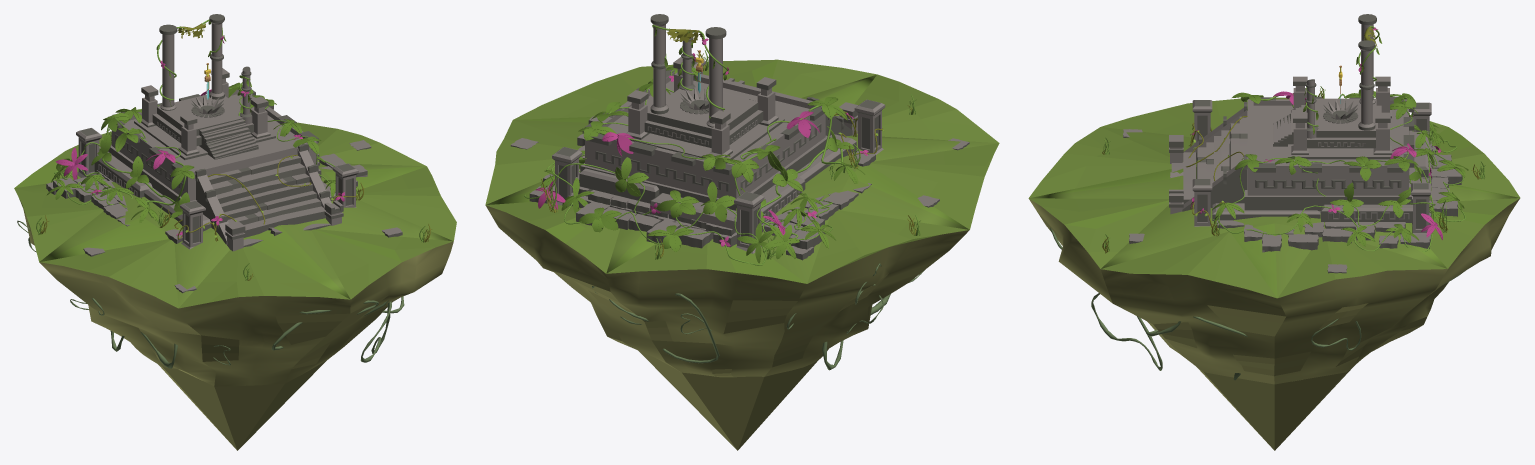
File: temple_island_low_poly.glb
The picture shows the model from 3 angles, left to right: view 1: azimuth 30°, elevation 25°; view 2: azimuth 150°, elevation 25°; view 3: azimuth 270°, elevation 25°; orthographic projection. The views are drawn at different scales.
Visible parts, largest first — view 1: Cylinder008, Box069, Box100, Box099, Box074, Cylinder004, box,, Box079, Box080, Box073, Box081, Box090 (+11 smaller); view 2: Cylinder008, Box069, Box100, Box099, Cylinder004, Box073, Box094, Box132, Box133, Cylinder003_04 - Default_0, Box095, Box091 (+4 smaller); view 3: Cylinder008, Box069, Box100, Box099, Box074, Box092, Line124, Box093, Cylinder003_04 - Default_0, Box133, Box134, Box073 (+3 smaller).
Part boxes in pixels (x1,y1,x2,y2): Cylinder008: [14, 122, 456, 450]; Box069: [108, 86, 321, 202]; Box100: [134, 68, 275, 159]; Box099: [53, 153, 367, 243]; Box074: [196, 149, 331, 244]; Cylinder004: [159, 24, 177, 110]; box,: [211, 163, 305, 194]; Box079: [243, 206, 325, 237]; Box080: [220, 182, 312, 212]; Box073: [180, 200, 205, 249]; Box081: [216, 173, 309, 203]; Box090: [94, 154, 152, 197]; Cylinder008: [485, 59, 999, 450]; Box069: [580, 68, 830, 210]; Box100: [624, 57, 784, 163]; Box099: [529, 116, 875, 249]; Cylinder004: [705, 27, 726, 127]; Box073: [854, 99, 885, 154]; Box094: [579, 168, 659, 203]; Box132: [734, 191, 764, 253]; Box133: [552, 147, 582, 205]; Cylinder003_04 - Default_0: [650, 23, 668, 110]; Box095: [650, 193, 736, 230]; Box091: [797, 134, 856, 182]; Cylinder008: [1028, 97, 1520, 450]; Box069: [1244, 97, 1414, 211]; Box100: [1288, 76, 1395, 159]; Box099: [1216, 141, 1462, 252]; Box074: [1182, 107, 1247, 211]; Box092: [1321, 204, 1412, 222]; Line124: [1255, 179, 1401, 188]; Box093: [1212, 203, 1320, 220]; Cylinder003_04 - Default_0: [1358, 48, 1374, 127]; Box133: [1411, 183, 1430, 236]; Box134: [1192, 179, 1212, 226]; Box073: [1192, 100, 1212, 143].
Size of the model in its own units: 5.72 by 5.57 by 5.92.
